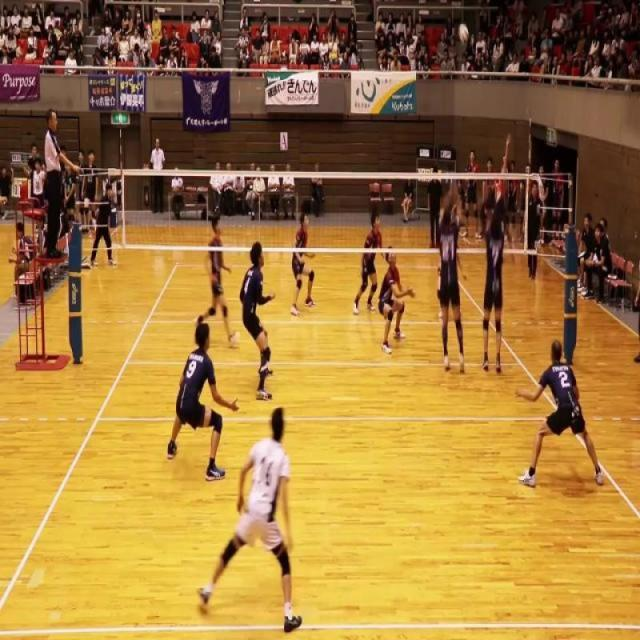volleyball: (458, 22, 469, 46)
